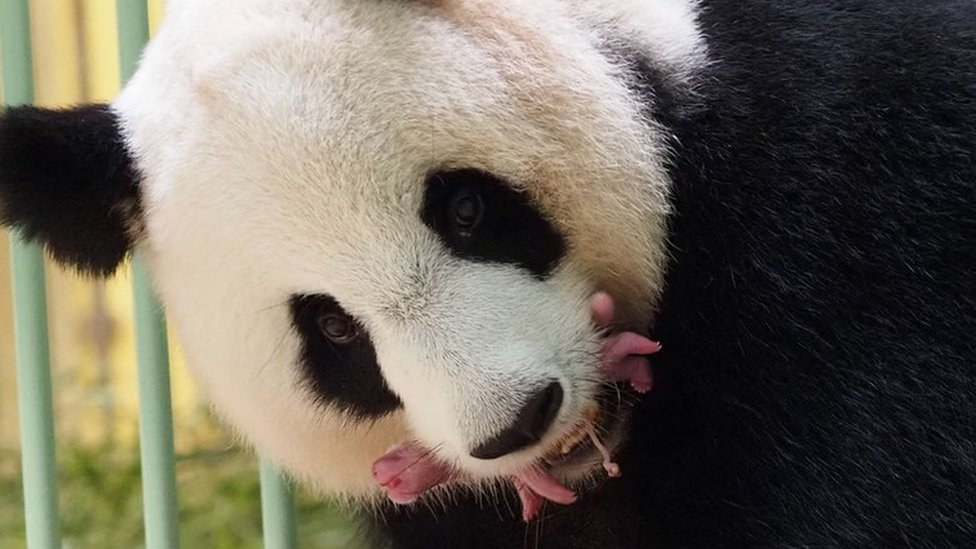panda: (69, 0, 733, 549)
